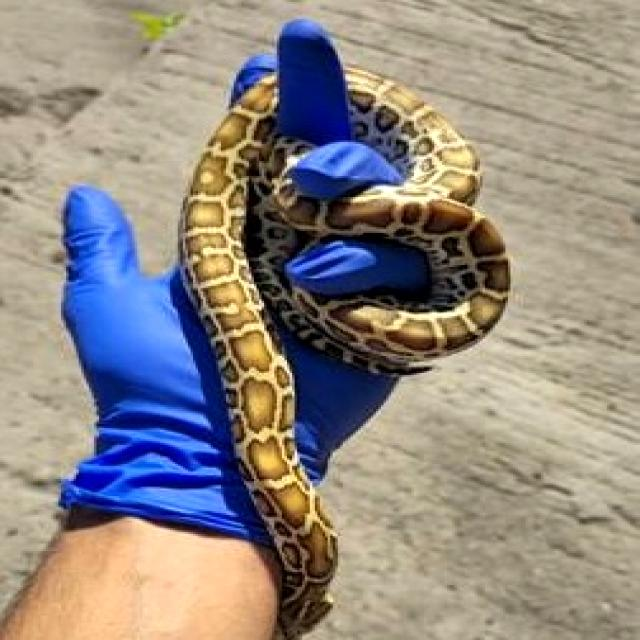Python bivittatus: (181, 69, 510, 638)
snake: (181, 69, 510, 638)
